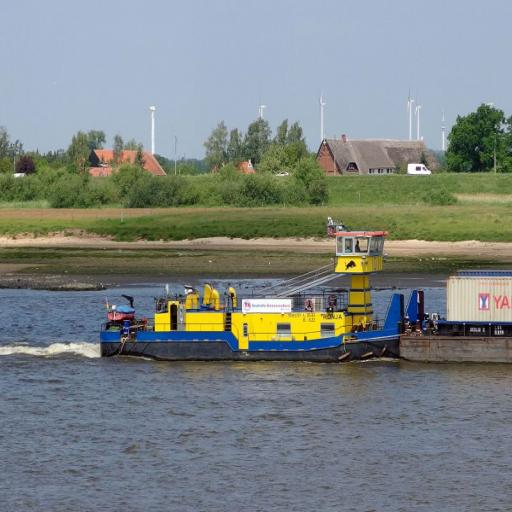tugboat: (99, 215, 430, 373)
